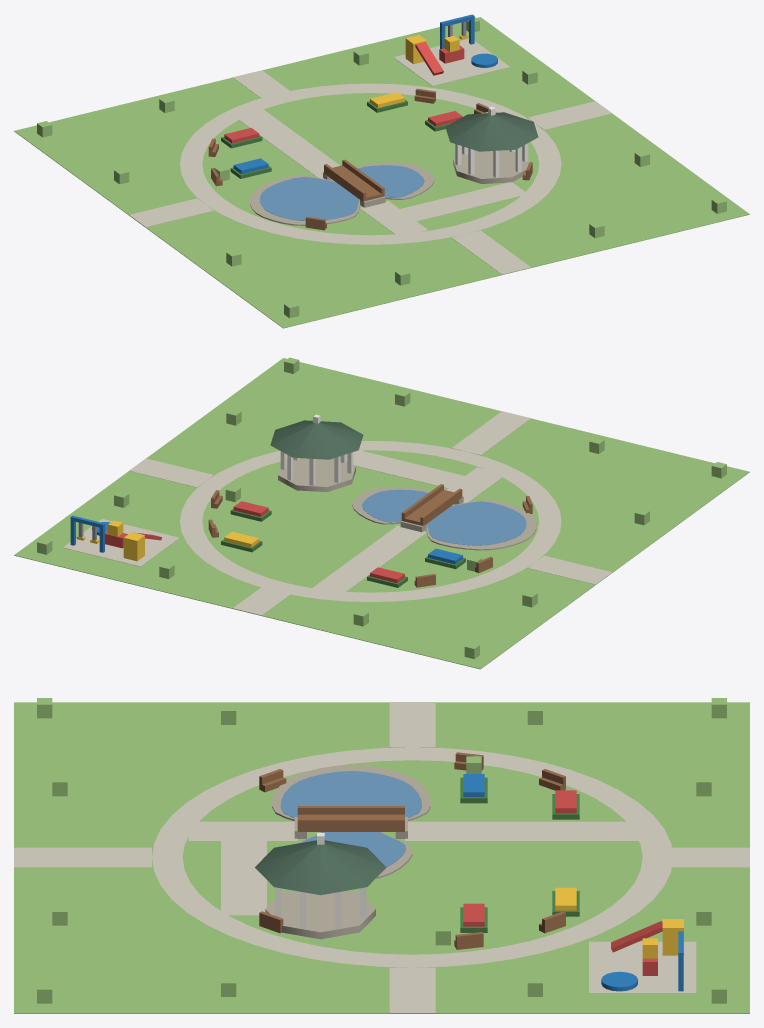
File: park_large.glb
3 views of the same model, one above another, from view 1: azimuth 30°, elevation 25°; view 2: azimuth 150°, elevation 25°; view 3: azimuth 270°, elevation 25° (orthographic). The views are drawn at different scales.
Visible parts, largest first — view 1: lawn, path (×8), pond, bandstand_roof, playground, bandstand_base, pond_edge, bridge; view 2: lawn, path (×8), pond, bandstand_roof, bandstand_base, playground, pond_edge, bridge, slide_tower; view 3: lawn, path (×8), pond, bandstand_roof, playground, bandstand_base, pond_edge, bridge_rail (×2), flower_bed (×3), bridge, slide_tower, roundabout (+1 smaller).
Part boxes in pixels (x1,y1,x2,y2): lawn: (14,17,749,328); path (×8): (129,70,612,274); pond: (260,165,424,220); bandstand_roof: (445,112,538,151); playground: (393,39,509,86); bandstand_base: (453,150,529,183); pond_edge: (250,162,434,225); bridge: (324,165,384,201); lawn: (14,358,749,669); path (×8): (129,411,611,615); pond: (362,489,526,545); bandstand_roof: (270,420,363,459); bandstand_base: (278,458,355,491); playground: (63,519,179,566); pond_edge: (352,486,536,550); bridge: (401,490,462,525); slide_tower: (123,532,144,561); lawn: (14,702,749,1013); path (×8): (14,702,749,1013); pond: (280,771,421,867); bandstand_roof: (255,840,386,895); playground: (589,941,696,993); bandstand_base: (265,890,375,939); pond_edge: (272,765,430,878); bridge_rail (×2): (297,806,404,826); flower_bed (×3): (463,790,576,926); bridge: (297,814,404,831); slide_tower: (662,919,683,955); roundabout: (601,971,637,991).
Bounding box in the file's own units: 48 × 5.9 × 48.
